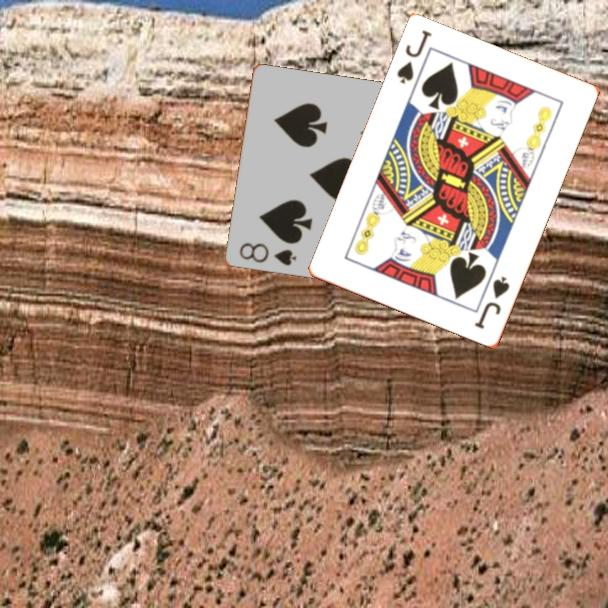s08: (235, 239, 299, 269)
s11: (471, 273, 513, 332), (394, 27, 435, 87)
